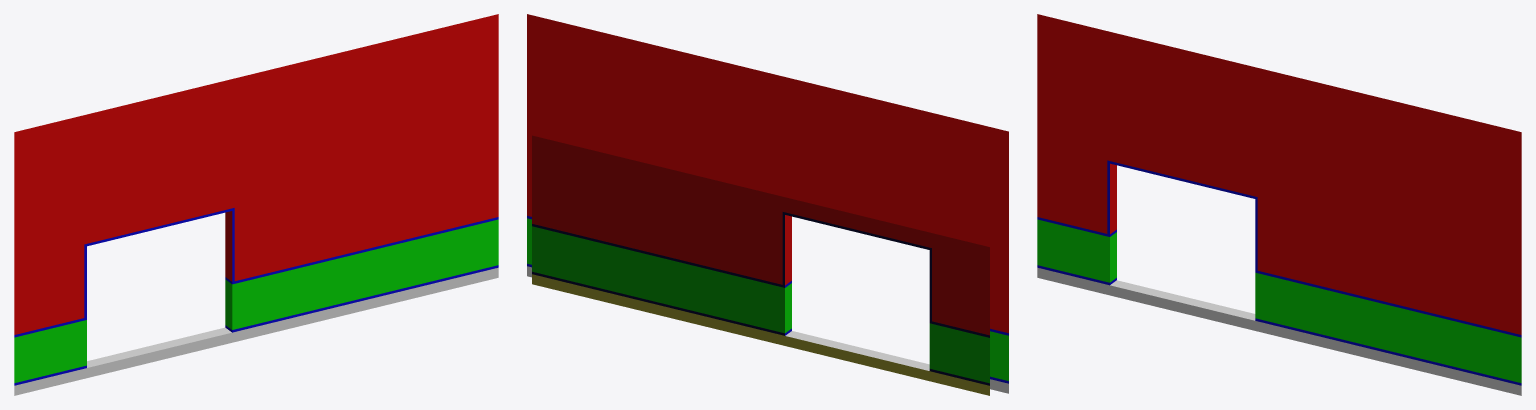
The model's file is SM_Room10x4DoorC.fbx.
3 views of the same model, side by side, from view 1: azimuth 30°, elevation 25°; view 2: azimuth 150°, elevation 25°; view 3: azimuth 330°, elevation 25° (orthographic).
Visible parts, largest first — view 1: SM_Room10x4DoorC; view 2: SM_Room10x4DoorC; view 3: SM_Room10x4DoorC.
Part boxes in pixels (<box>): SM_Room10x4DoorC: <box>14,14,498,395</box>; SM_Room10x4DoorC: <box>527,14,1008,395</box>; SM_Room10x4DoorC: <box>1037,14,1521,395</box>.
Bounding box in the file's own units: 1000 × 520 × 25.
